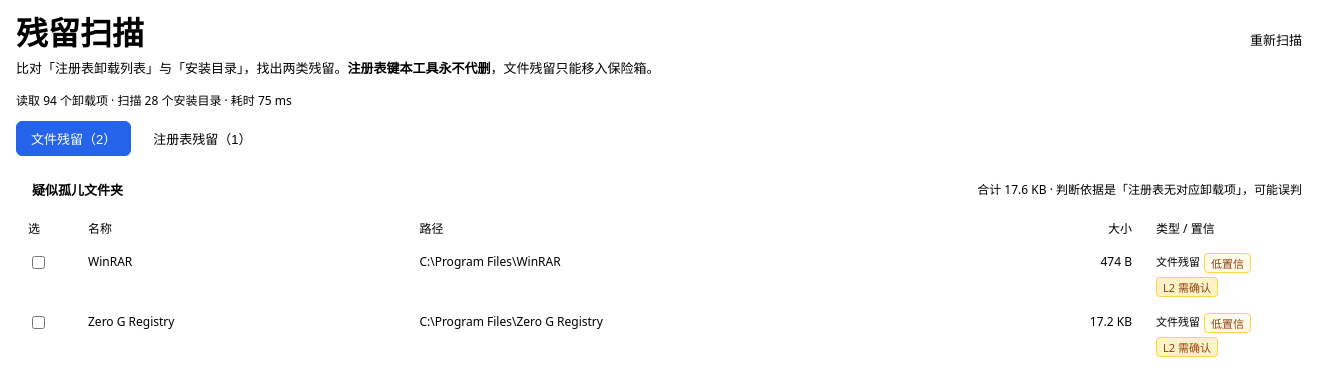
Scenario: 残留扫描 › 注册表残留 tab 里没有勾选框，只给键路径让人手动处理
The image size is (1335, 374).
Expected: the button "文件残留（2）" is shown, [16,121,131,156]
Click the button "注册表残留（1）" at (202,138), box [139,121,266,156]
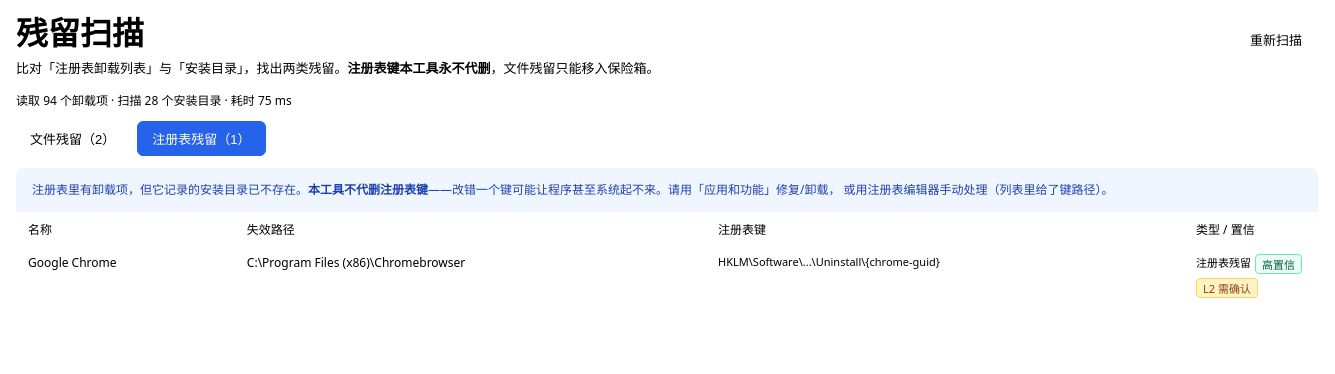
Expected: the text "Google Chrome" is shown, [16,246,235,306]
Expected: the text "HKLM\\Software\\...\\Uninstall\\{chrome-guid}" is shown, [706,246,1184,306]
Expected: no checkboxes are shown
